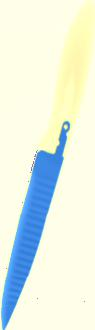Knife: (1, 1, 94, 330)
